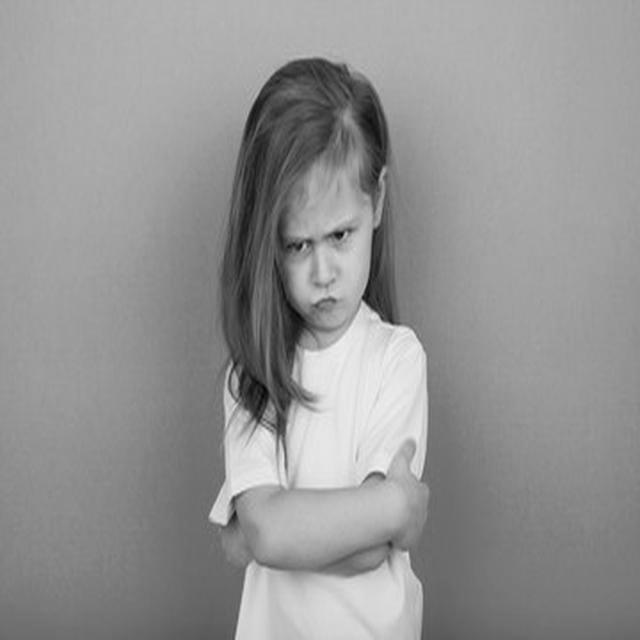Angry: (272, 166, 373, 330)
